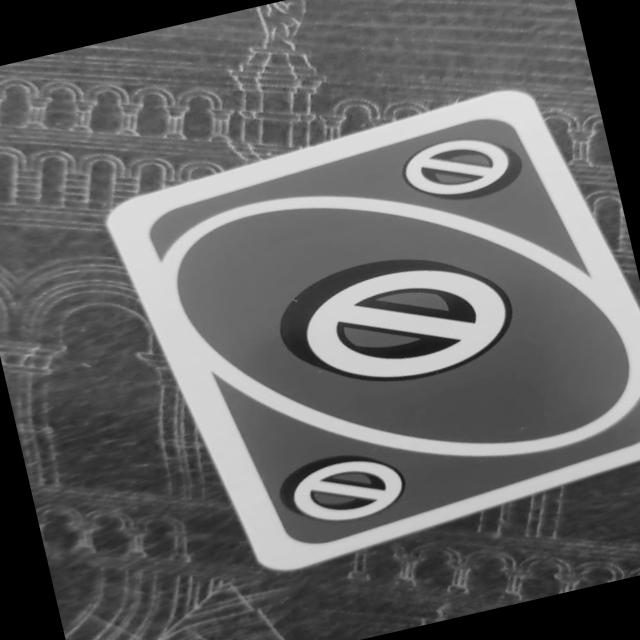skip_card: (96, 68, 640, 594)
